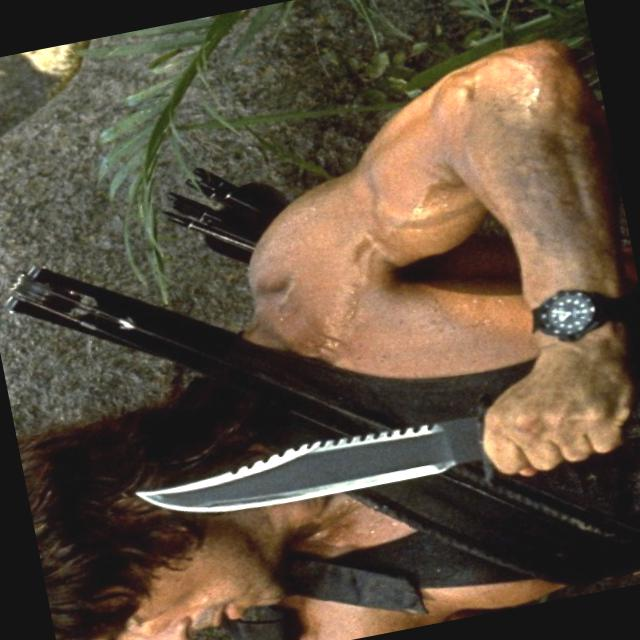knife: (119, 371, 633, 559)
